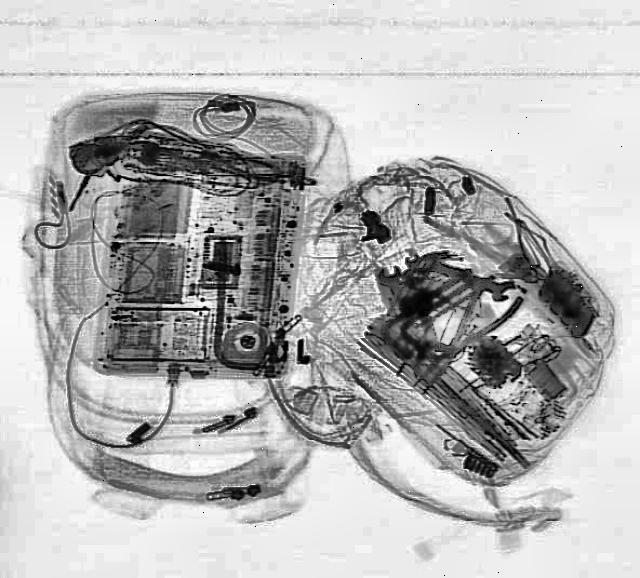Pliers: (394, 273, 526, 405)
Wrench: (394, 246, 518, 304), (373, 262, 421, 327)
